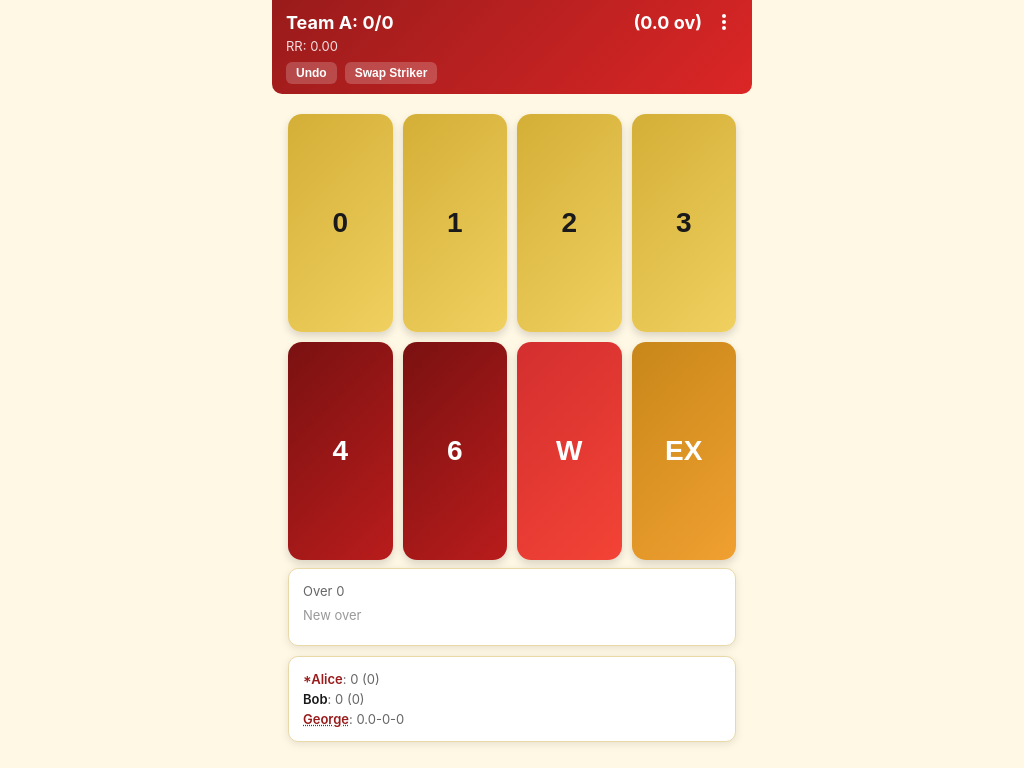
Test: Scoring - wicket with runs › wicket sheet shows dismissal types first
Step 1. Click the button "W" → (569, 451), box [517,342,622,560]
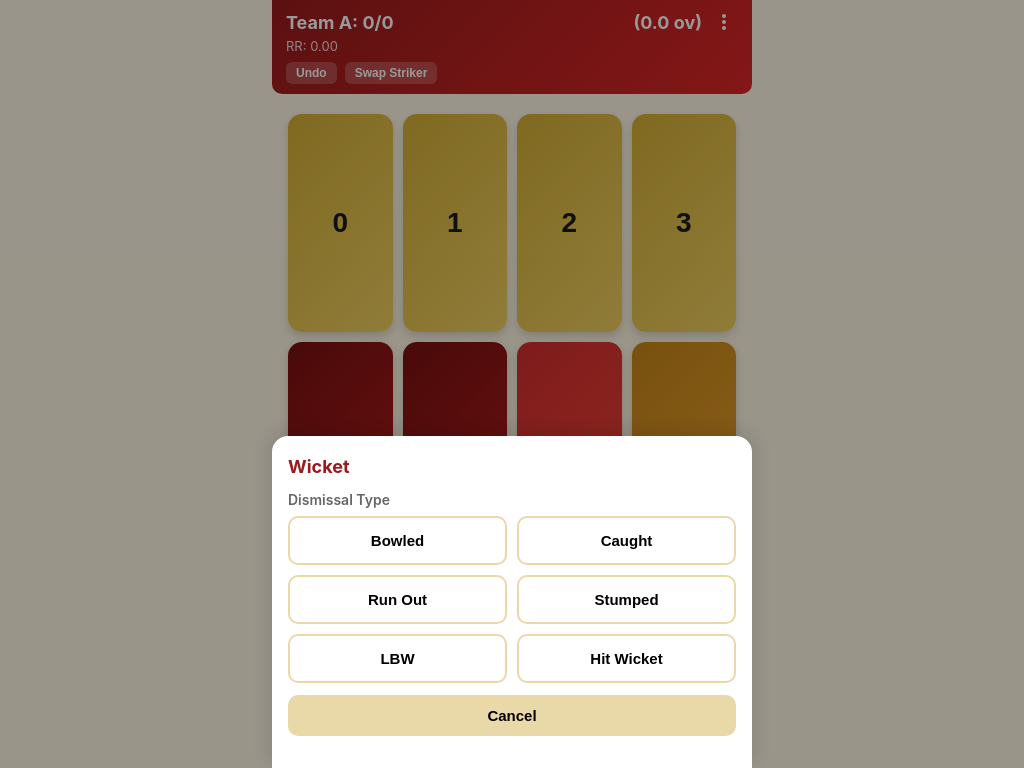
Check: the heading "Wicket" is shown, box [288,456,350,477]
Check: the button "Bowled" is shown, box [288,516,507,565]
Check: the button "Run Out" is shown, box [288,575,507,624]
